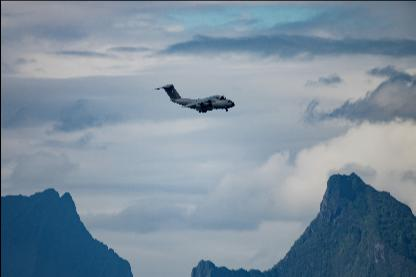A400M: (152, 84, 235, 112)
